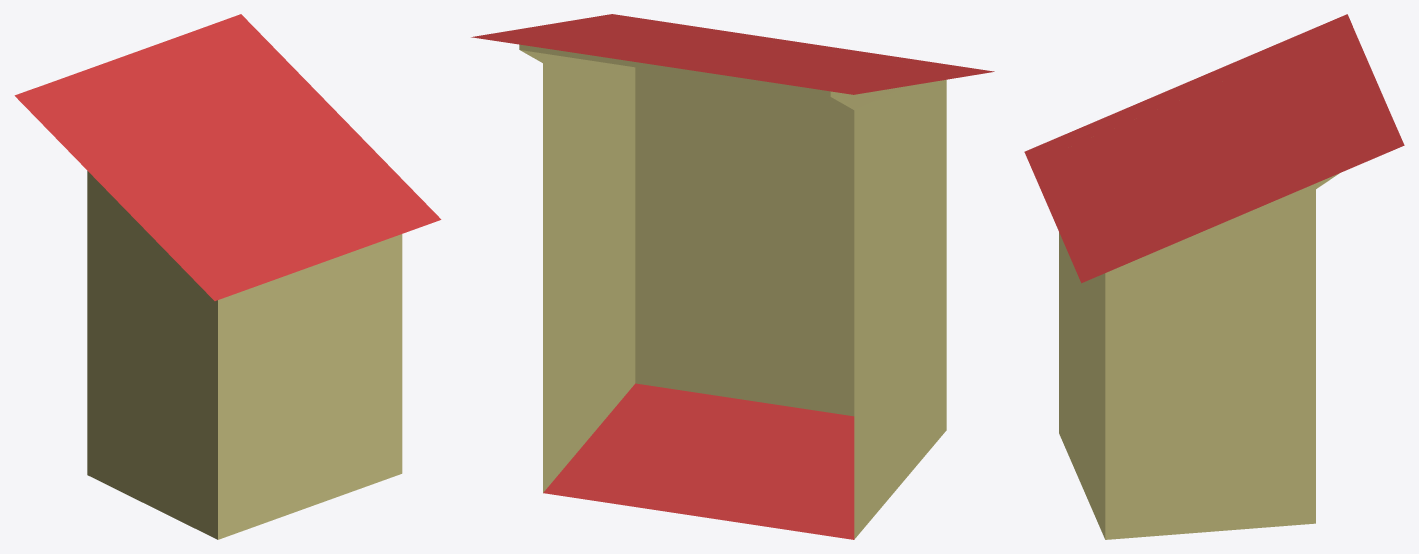
The picture shows the model from 3 angles, left to right: view 1: azimuth 30°, elevation 25°; view 2: azimuth 150°, elevation 25°; view 3: azimuth 270°, elevation 25°; orthographic projection. The views are drawn at different scales.
Size of the model in its own units: 9.34 by 9.58 by 10.68.
